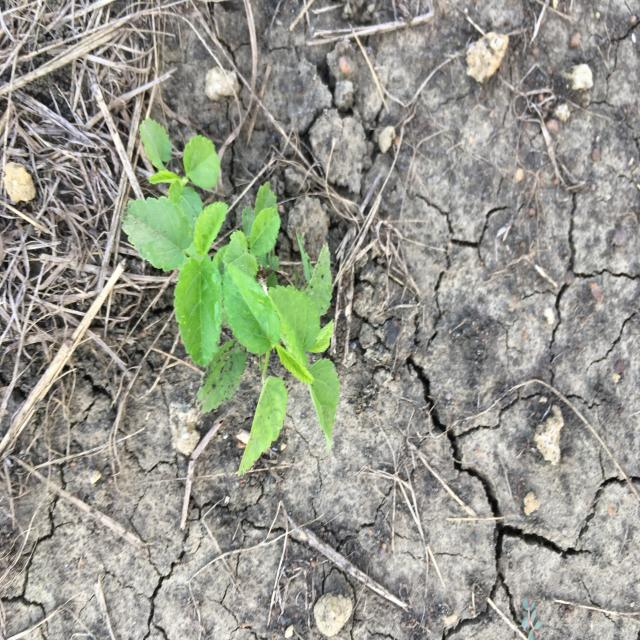PricklySida: (121, 114, 343, 480)
